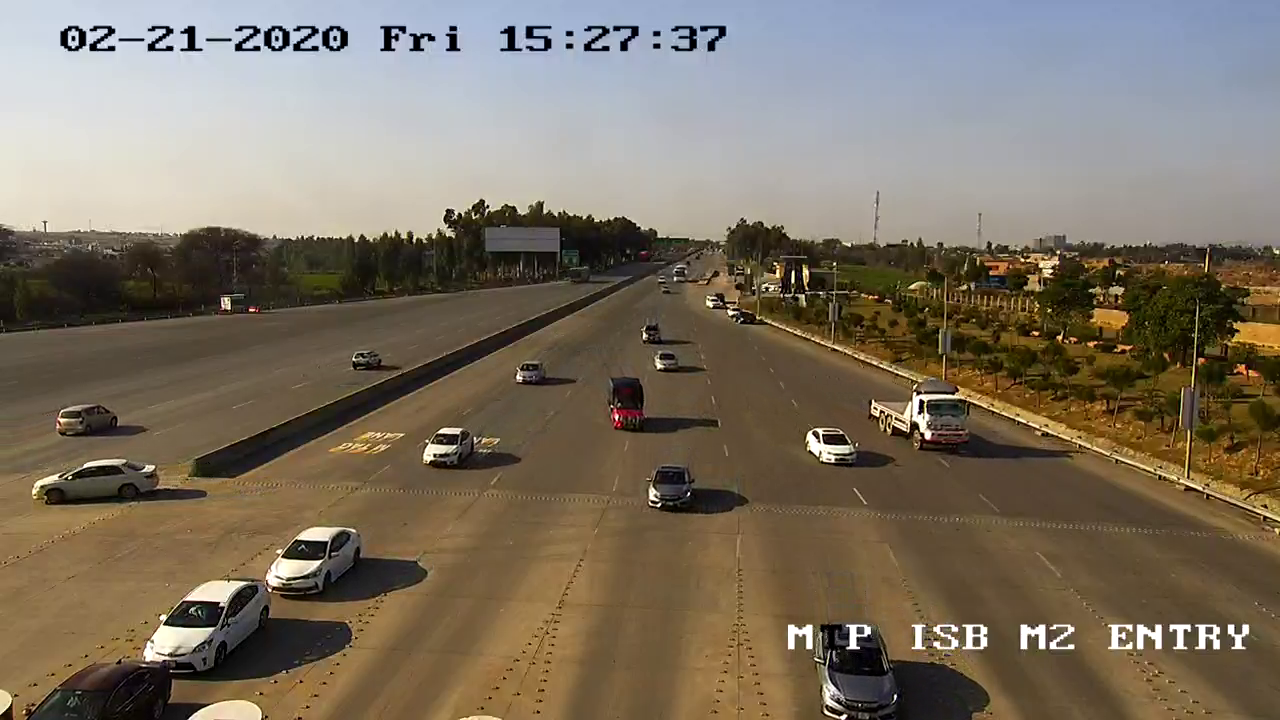f1: (260, 519, 366, 603), (634, 458, 708, 518), (414, 415, 482, 475), (797, 422, 868, 472)
f5: (852, 369, 997, 463)
